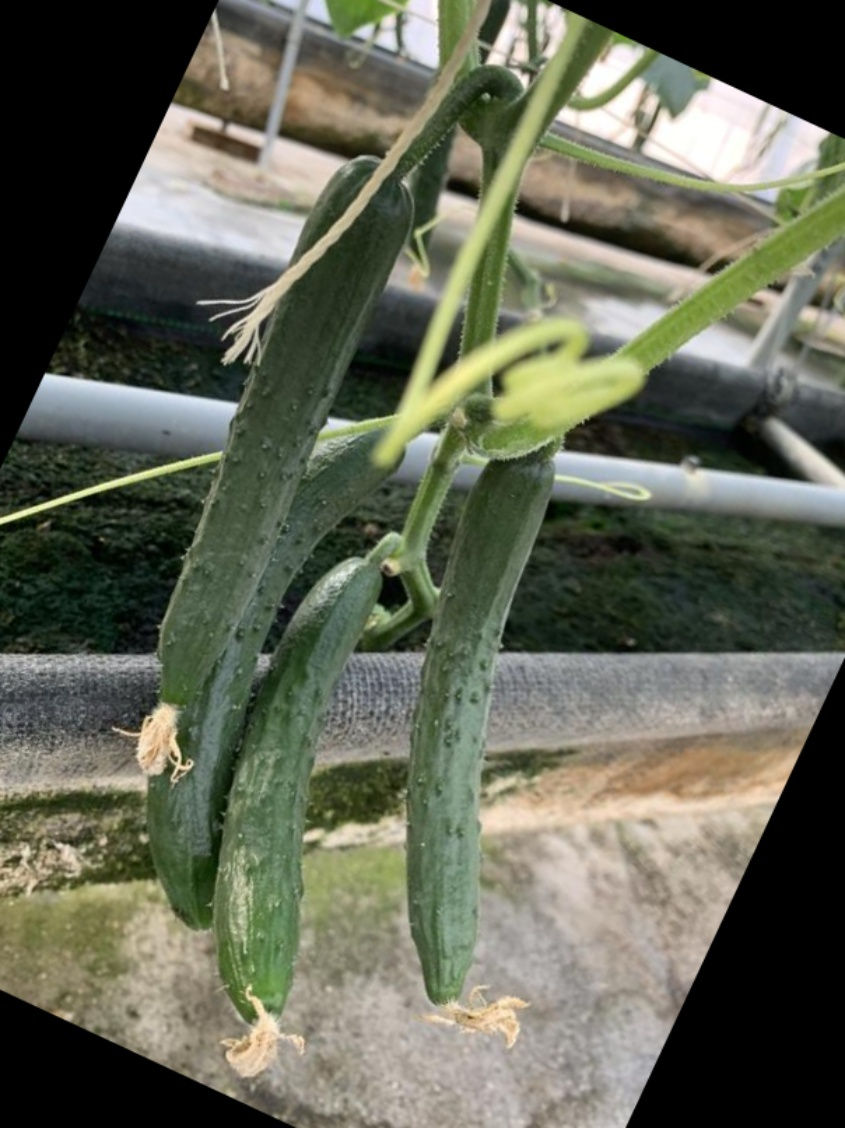mature: (201, 545, 381, 1013)
